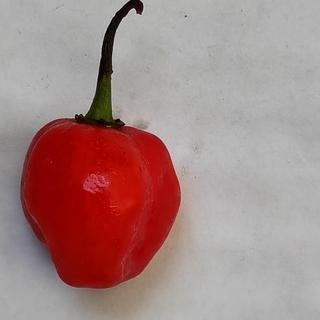Grade-B: (14, 107, 184, 293)
